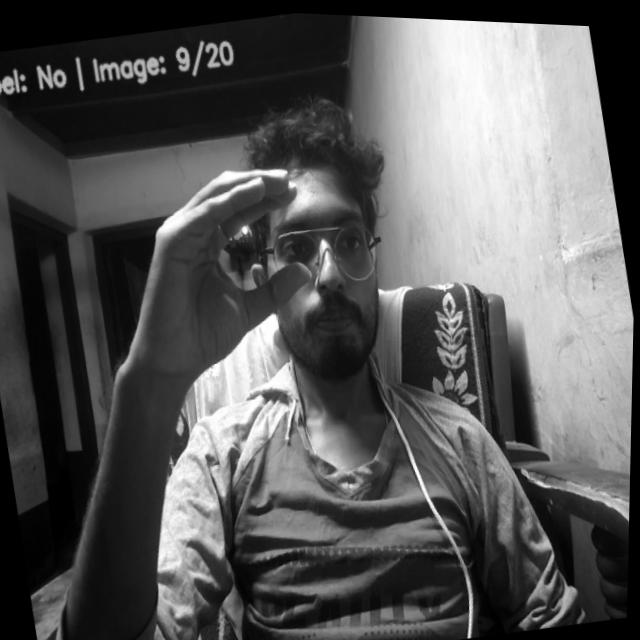No: (111, 152, 332, 392)
